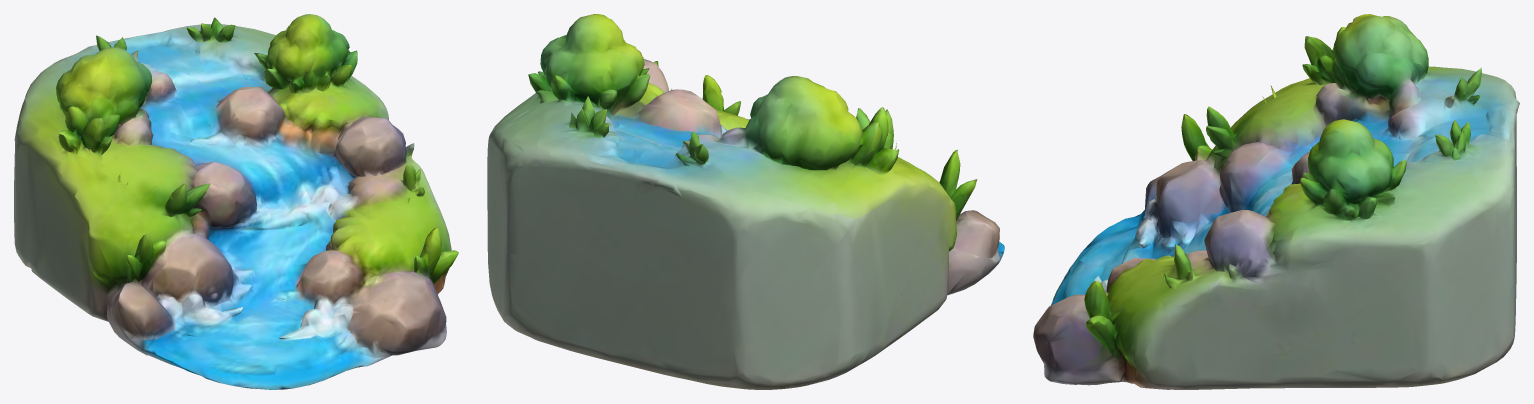
File: river.glb
3 views of the same model, side by side, from view 1: azimuth 30°, elevation 25°; view 2: azimuth 150°, elevation 25°; view 3: azimuth 270°, elevation 25° (orthographic). The views are drawn at different scales.
Size of the model in its own units: 0.8512 by 0.6147 by 1.
Materials: 1 (1 with a texture image).
